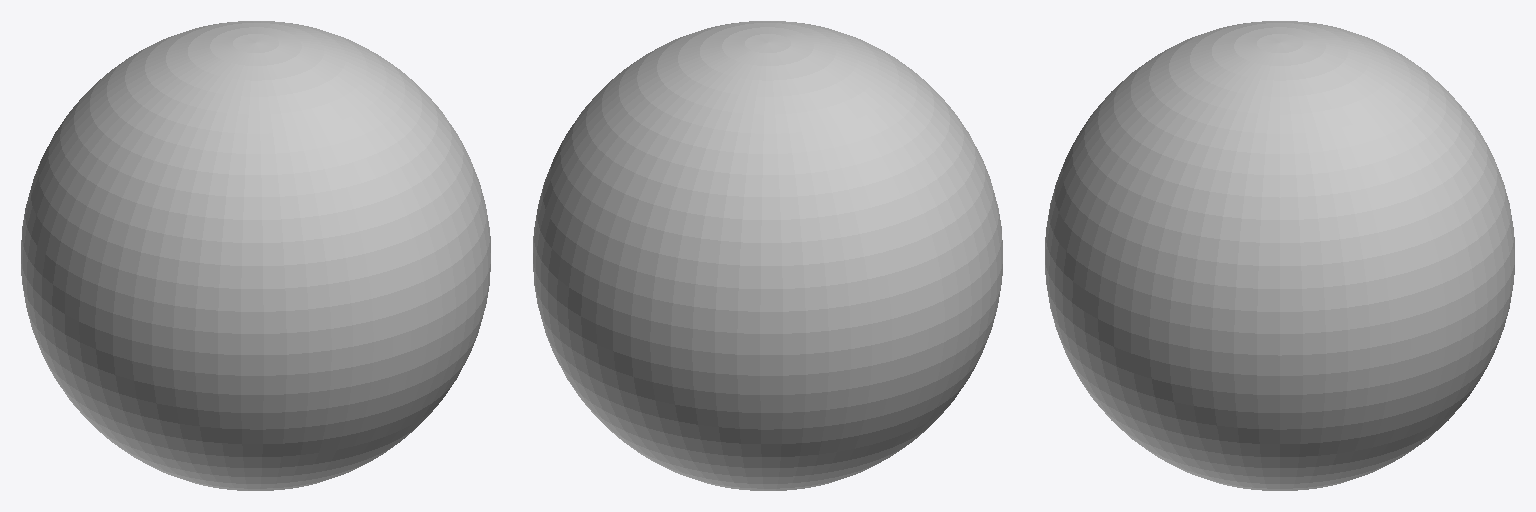
The model's file is earth.obj.
3 renders of one model, left to right at view 1: azimuth 30°, elevation 25°; view 2: azimuth 150°, elevation 25°; view 3: azimuth 270°, elevation 25°, orthographic.
Parts seen in each view (by area): view 1: Atmosphere_Sphere.002; view 2: Atmosphere_Sphere.002; view 3: Atmosphere_Sphere.002.
Part boxes in pixels (x1,y1,x2,y2): Atmosphere_Sphere.002: (21,21,490,490); Atmosphere_Sphere.002: (533,21,1002,490); Atmosphere_Sphere.002: (1045,21,1514,490).
Size of the model in its own units: 2.08 by 2.08 by 2.08.